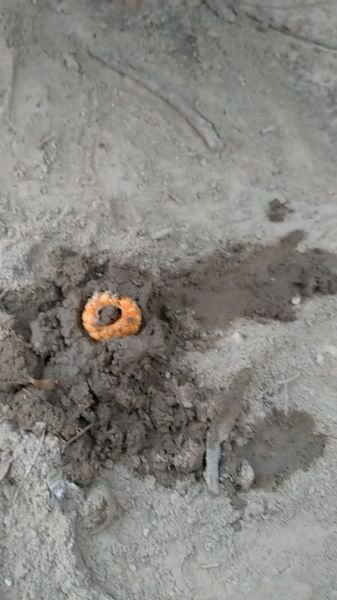eggs: (79, 287, 143, 348)
